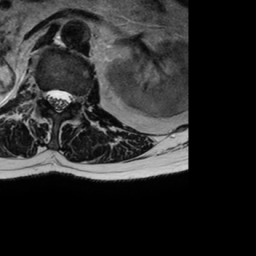CCS_normal: (54, 81, 64, 121)
LFS_normal: (72, 83, 80, 111)
LLS_normal: (64, 81, 72, 114)
RFS_normal: (37, 78, 45, 109)
RLS_normal: (45, 81, 54, 112)
